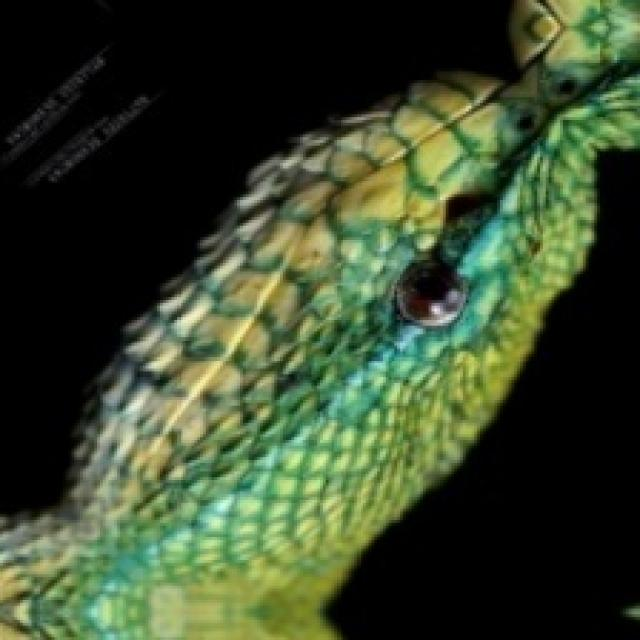north ph temple pitviper: (0, 0, 637, 637)
